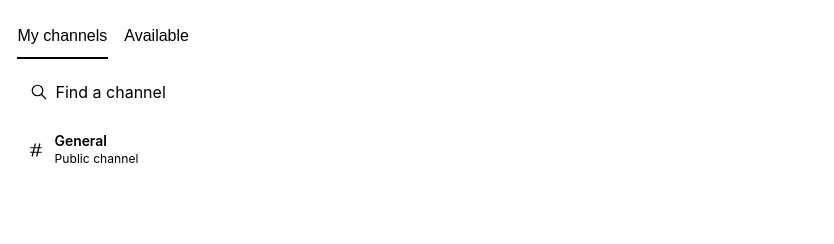
a queued scroll notification does not fetch another page after leaving Available
Later steps or results of the test are not shown.
What coordinates should you click on to do the following:
click the tab "Available"
I would click on:
 (157, 37)
Its box is [123, 15, 190, 59].
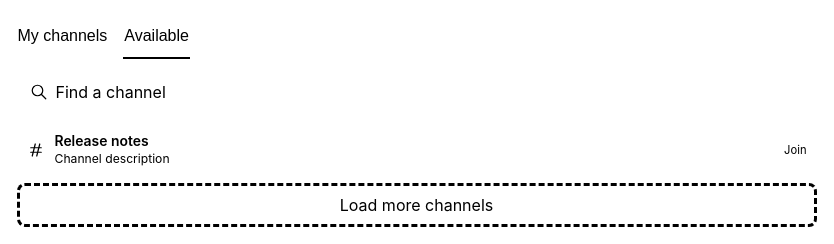
expect the button "Load more channels" is shown: met, box [16, 183, 816, 227]
